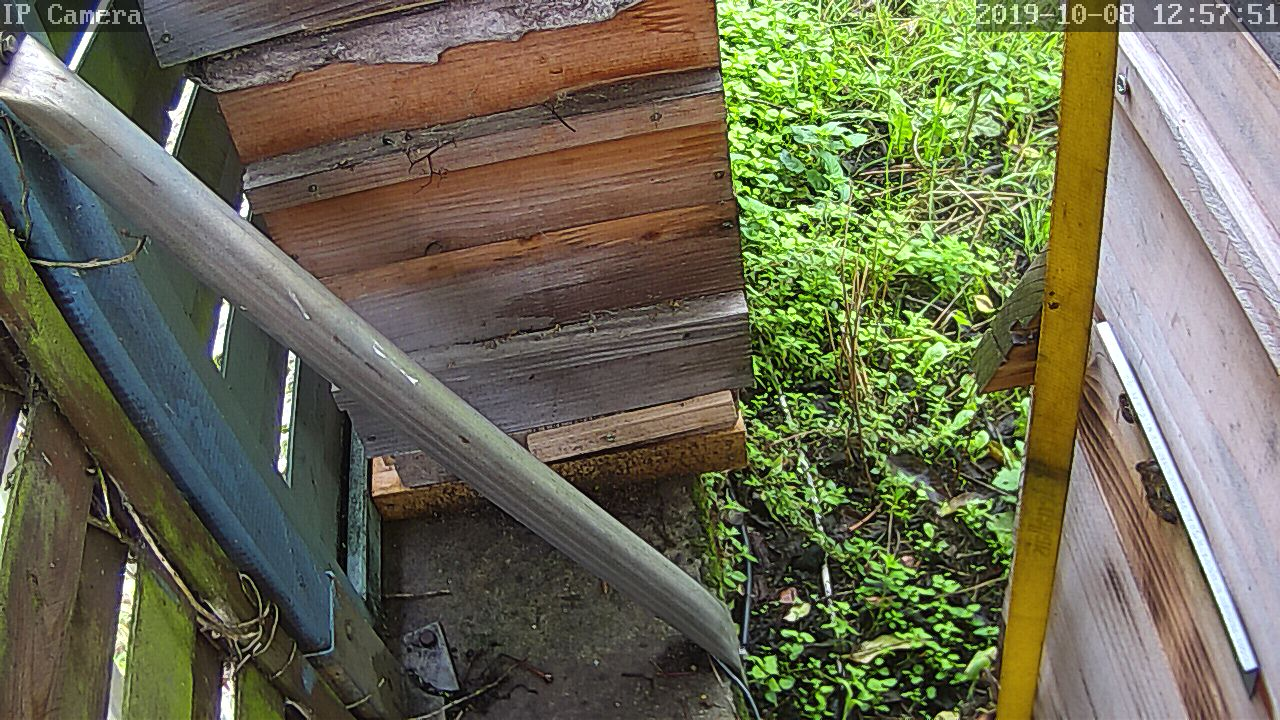bee: (1130, 451, 1185, 527), (1109, 388, 1144, 436)
